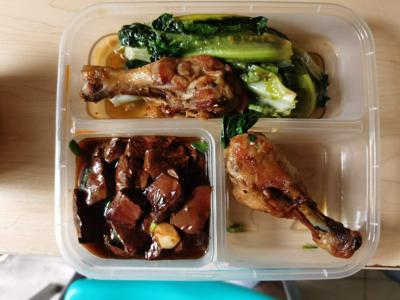jt: (223, 133, 373, 262), (80, 63, 240, 120)
ymc: (217, 16, 333, 119)
